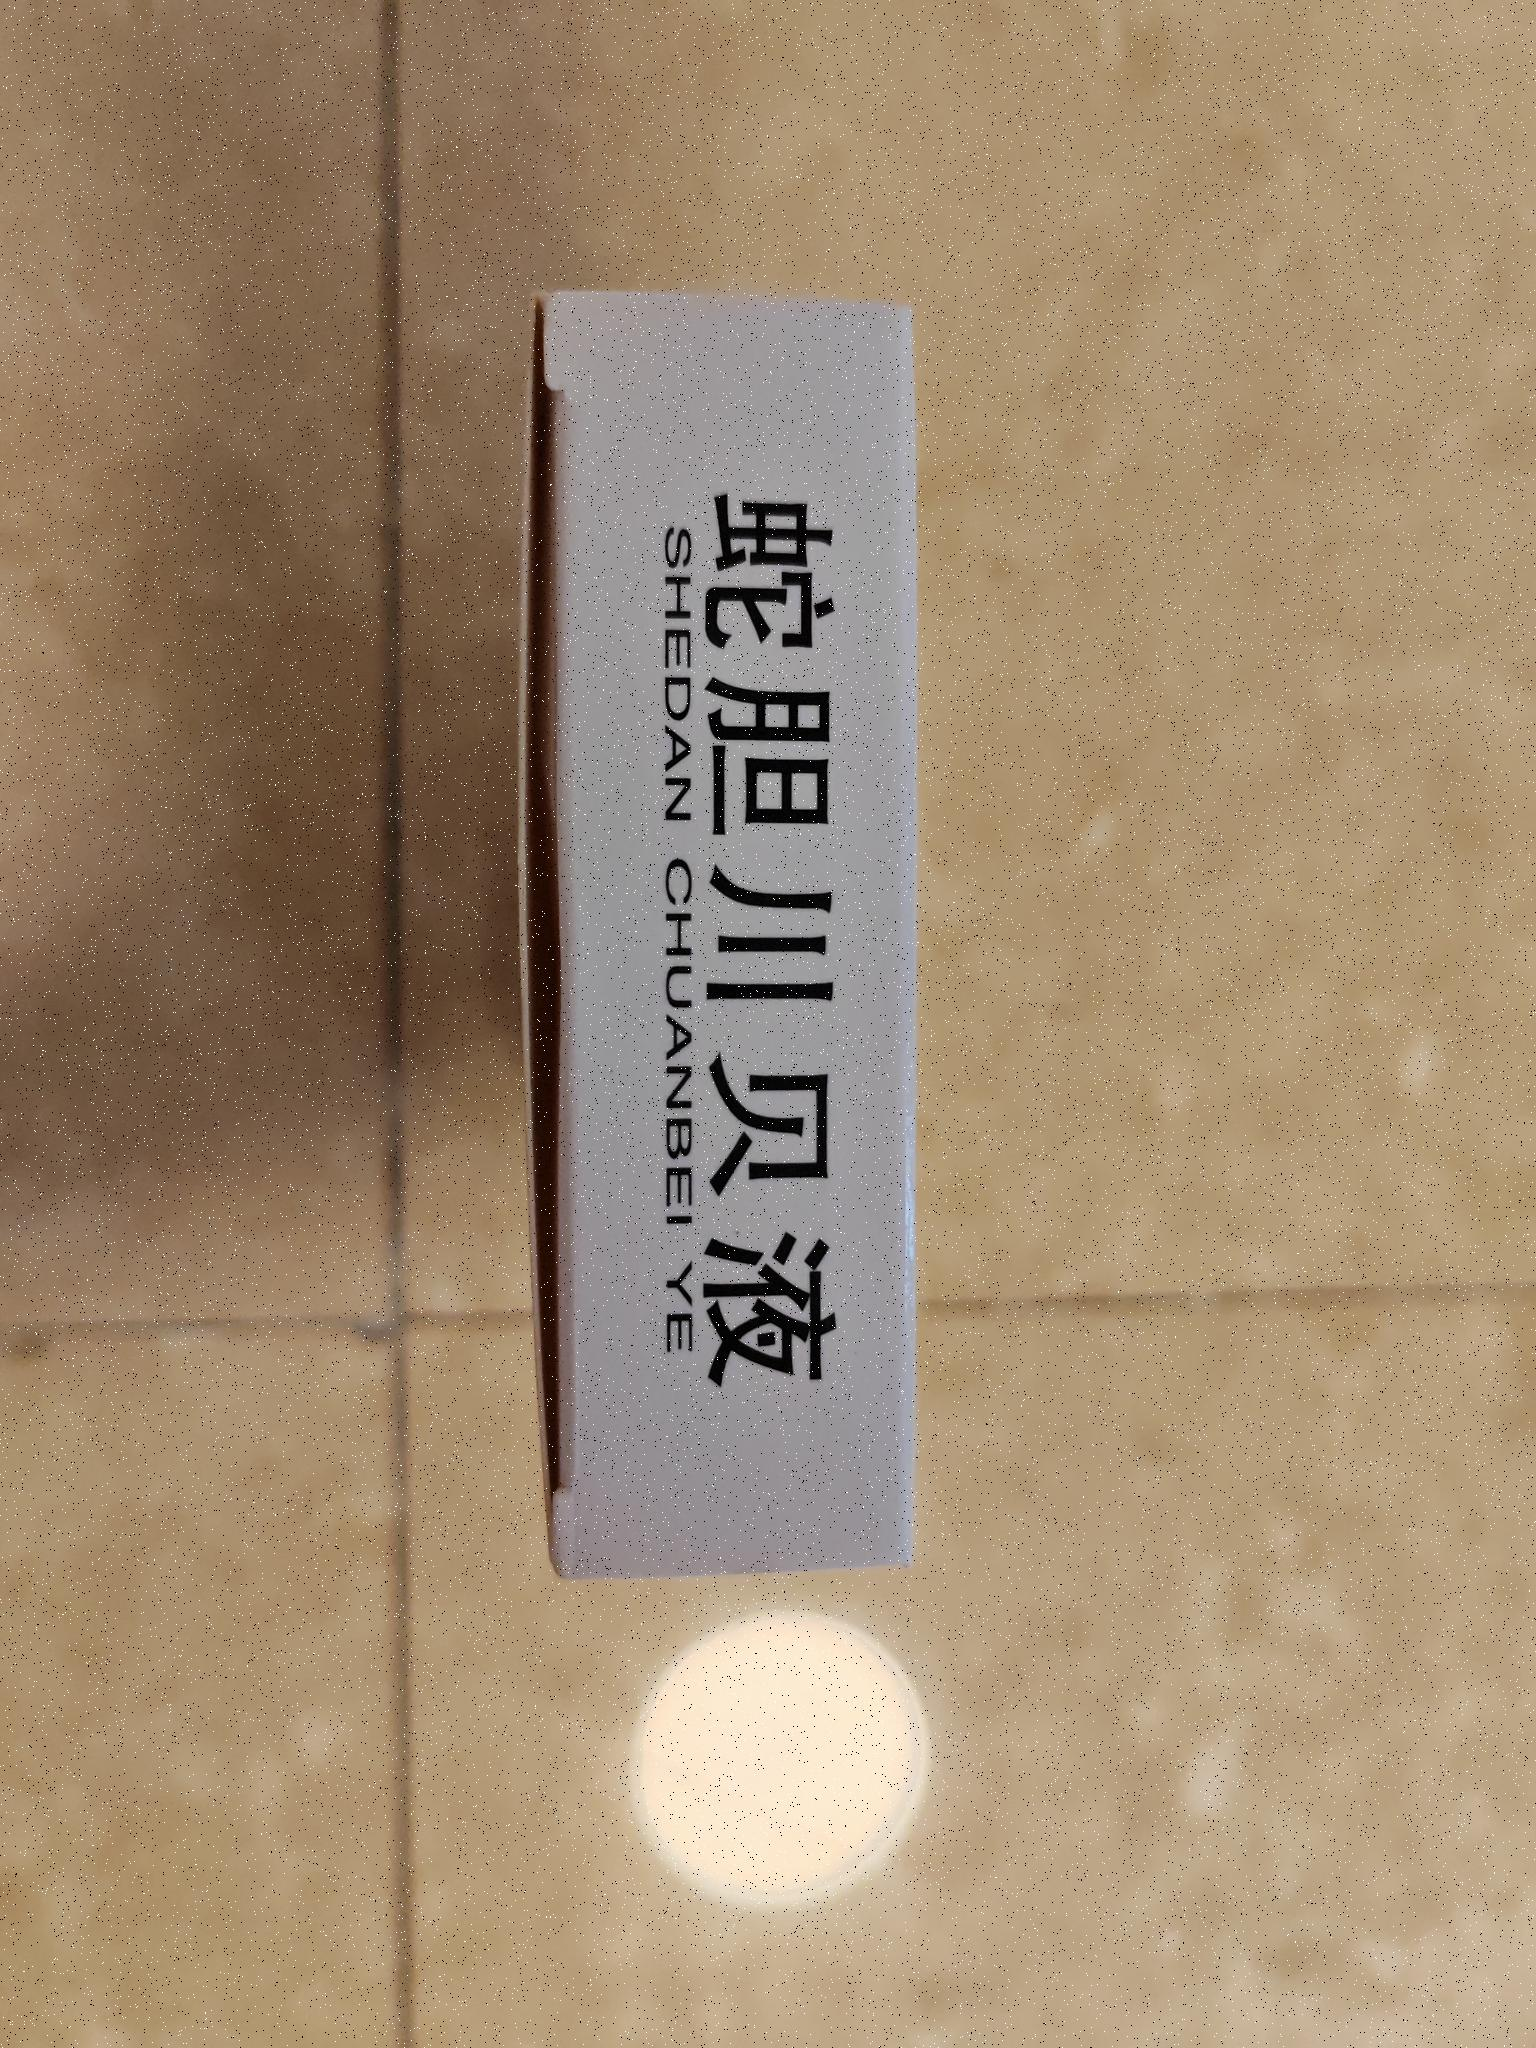Medicine5: (487, 266, 960, 1632)
